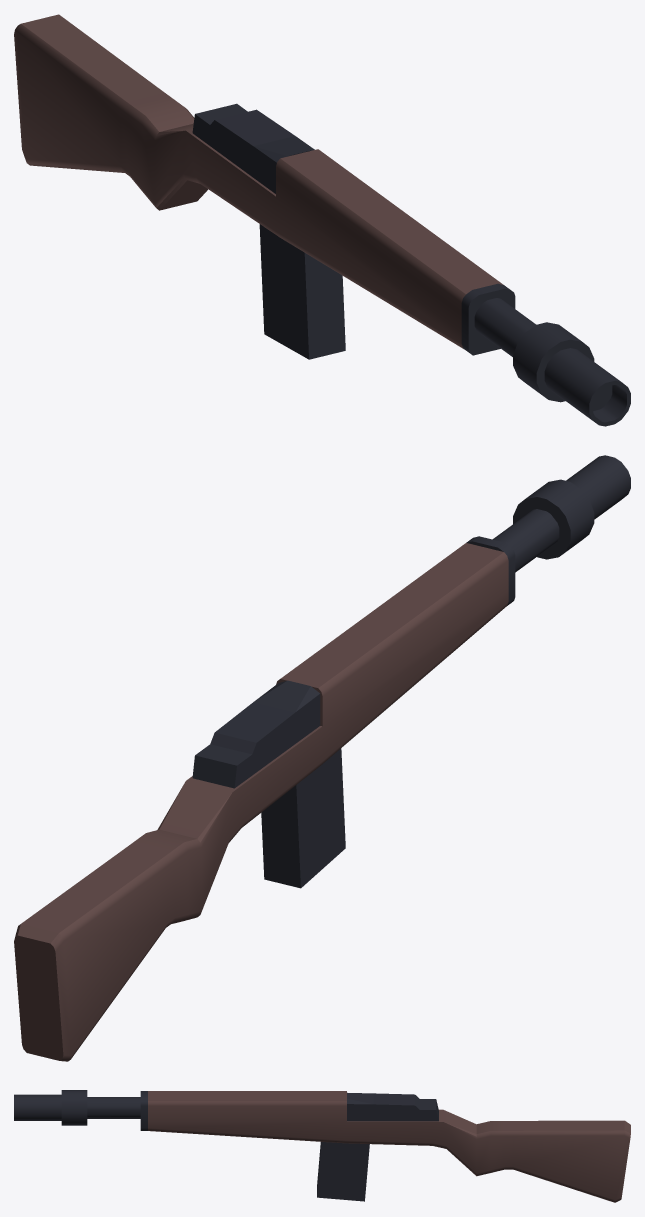
The model's file is Gun_V2.fbx.
The picture shows the model from 3 angles, top to bottom: view 1: azimuth 30°, elevation 25°; view 2: azimuth 150°, elevation 25°; view 3: azimuth 270°, elevation 25°; orthographic projection. The views are drawn at different scales.
Parts seen in each view (by area): view 1: Gun.004; view 2: Gun.004; view 3: Gun.004.
Boxes of the visible parts, x1,y1,x2,y2 form: Gun.004: (14, 14, 630, 426); Gun.004: (14, 455, 630, 1061); Gun.004: (14, 1090, 630, 1202).
Size of the model in its own units: 6.14 by 20.15 by 106.
